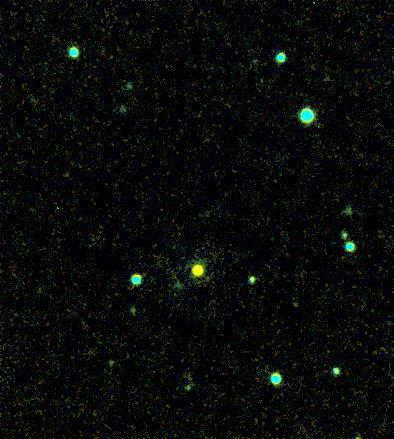star: (181, 256, 211, 286)
